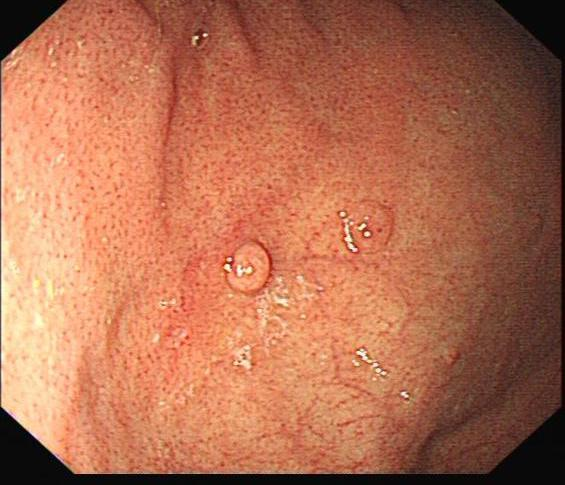Polyp: (225, 234, 281, 300), (336, 202, 396, 255)
